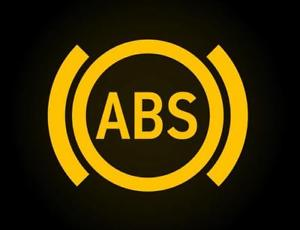ABS: (41, 35, 252, 199)
